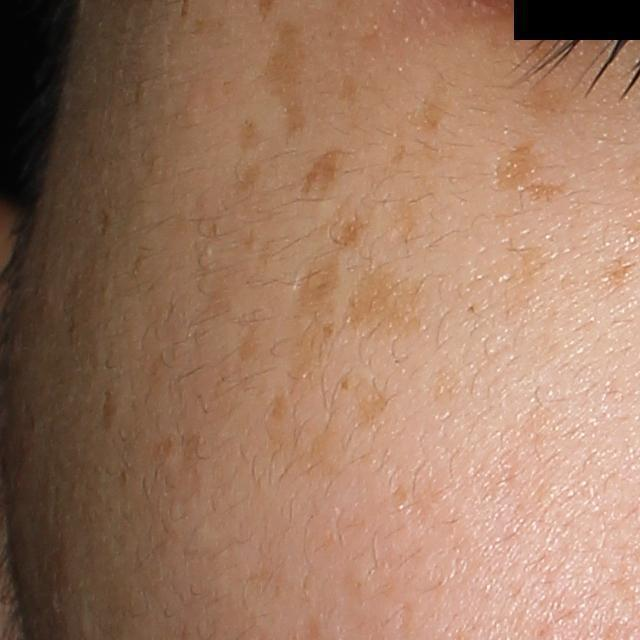melasma: (257, 20, 314, 149), (346, 268, 431, 344), (290, 255, 343, 318), (491, 136, 541, 191), (411, 77, 451, 139), (298, 146, 343, 199), (518, 78, 568, 123), (352, 390, 397, 432), (514, 177, 567, 208), (238, 117, 265, 154)
